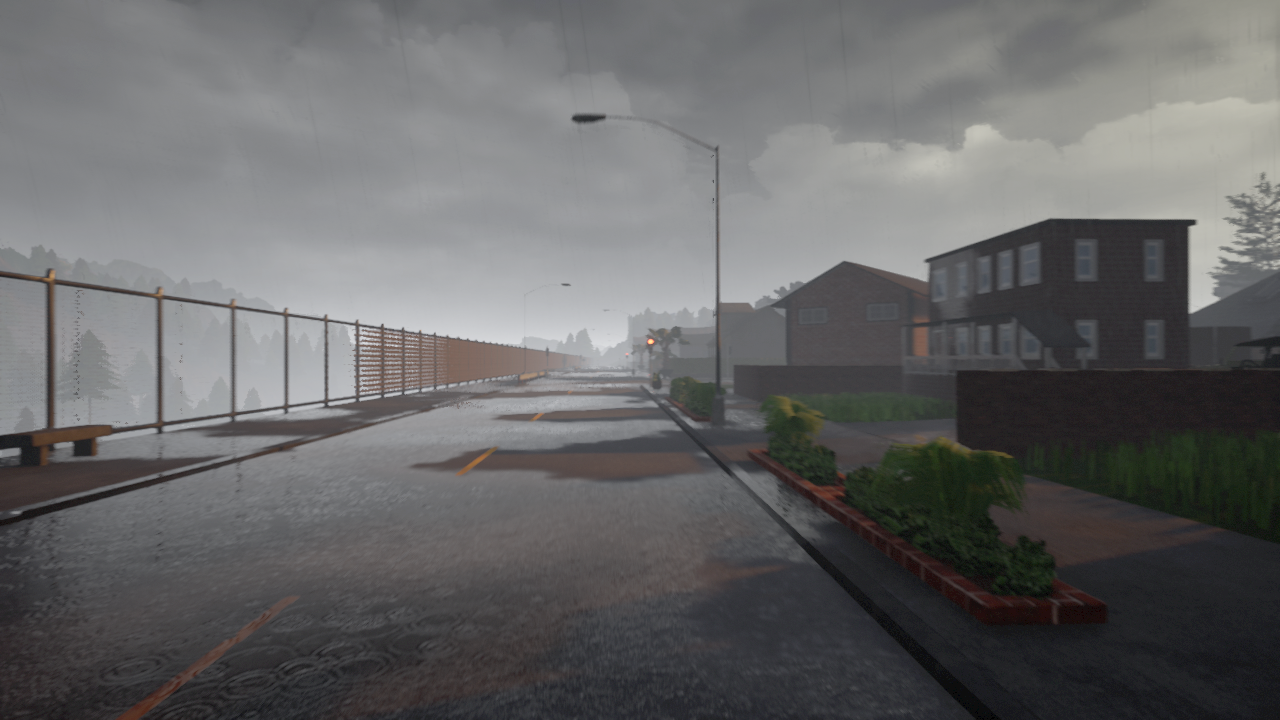red: (646, 337, 654, 354)
